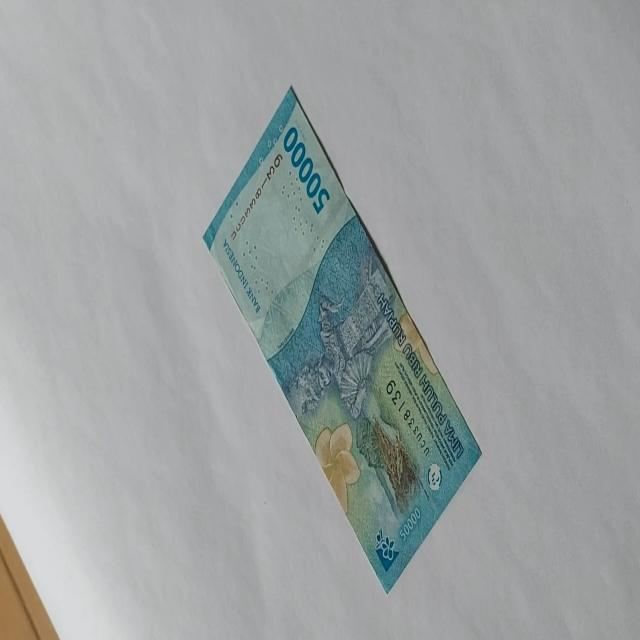lima puluh ribu rupiah: (202, 83, 482, 594)
